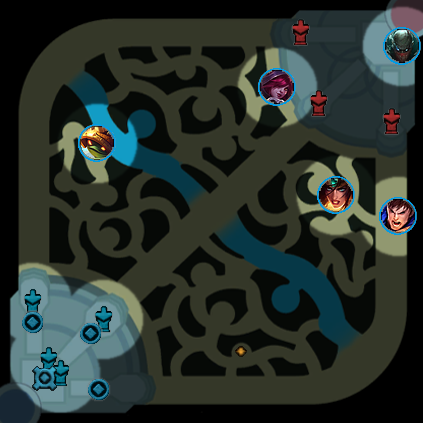Garen: (379, 197, 417, 235)
Pyke: (383, 27, 421, 65)
Rammus: (78, 124, 116, 162)
Sivir: (317, 176, 355, 214)
Xayah: (258, 68, 296, 106)
